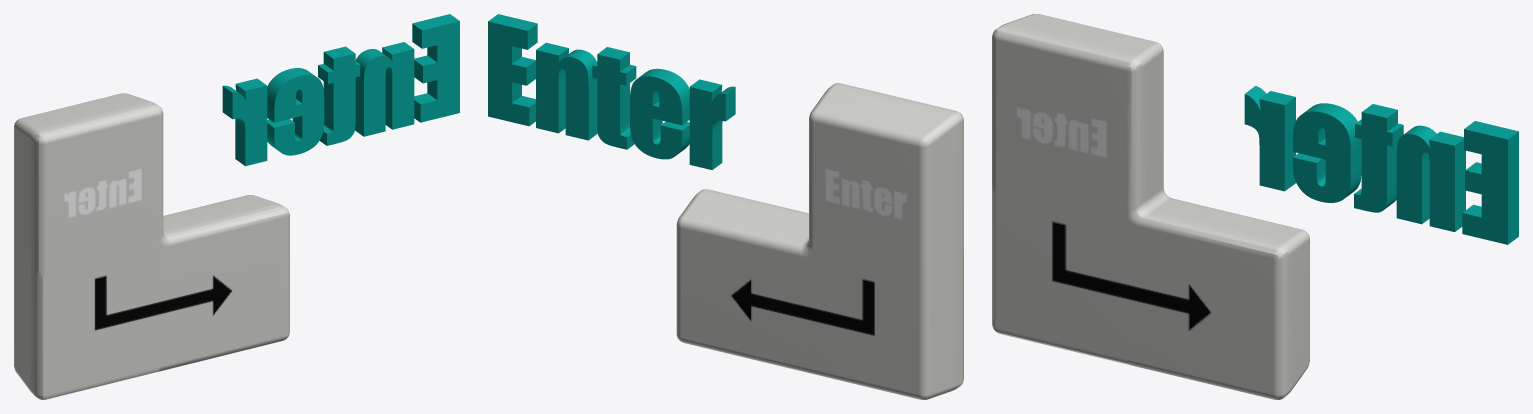
Rendered from HSBC Entorno_10_CAPAS_BOTONES Enter Salud.fbx.
3 renders of one model, left to right at view 1: azimuth 30°, elevation 25°; view 2: azimuth 150°, elevation 25°; view 3: azimuth 330°, elevation 25°, orthographic. The views are drawn at different scales.
Parts seen in each view (by area): view 1: enter.003, letras_enter.003; view 2: enter.003, letras_enter.003; view 3: enter.003, letras_enter.003.
Boxes of the visible parts, left/top/right/bottom form: enter.003: left=14, top=93, right=289, bottom=399; letras_enter.003: left=222, top=14, right=459, bottom=166; enter.003: left=676, top=83, right=963, bottom=399; letras_enter.003: left=488, top=14, right=735, bottom=169; enter.003: left=992, top=14, right=1309, bottom=399; letras_enter.003: left=1244, top=86, right=1518, bottom=244.
Size of the model in its own units: 118 by 68.64 by 16.41.
